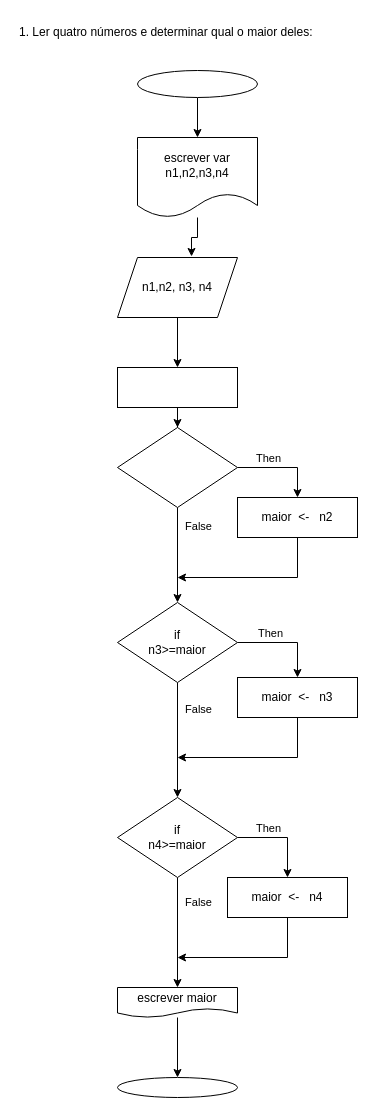
The diagram is 375 pixels wide and 1115 high, and some of its shapes have lost their labels. Here are the shapes that lost their labels. From the top down, the box of each, then its label:
(136, 70, 258, 98): início
(116, 366, 238, 408): maior <- n1
(116, 426, 238, 508): if n2>=maior
(116, 1076, 238, 1098): fim
